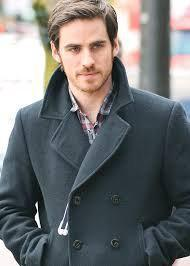Sober: (62, 24, 113, 88)
